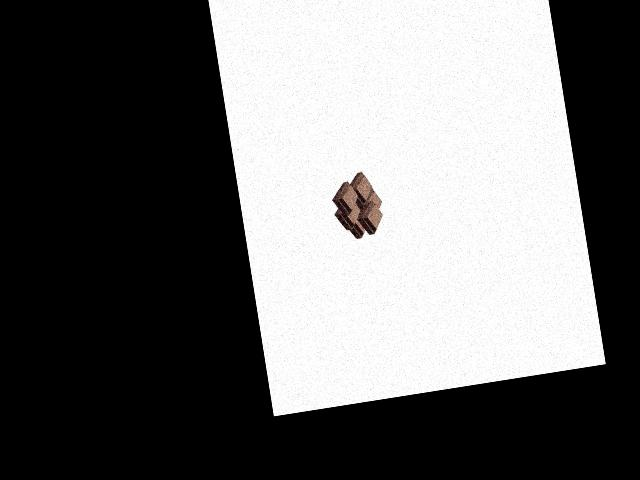chocolate: (330, 169, 389, 243)
